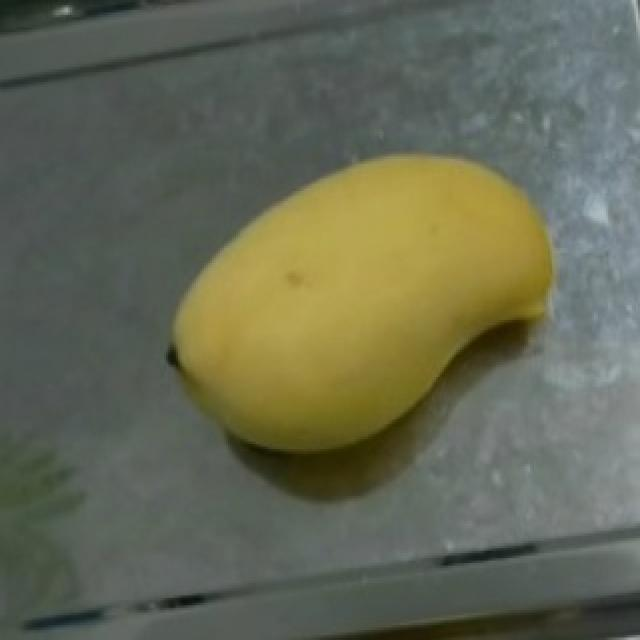fruit: (230, 109, 598, 484)
